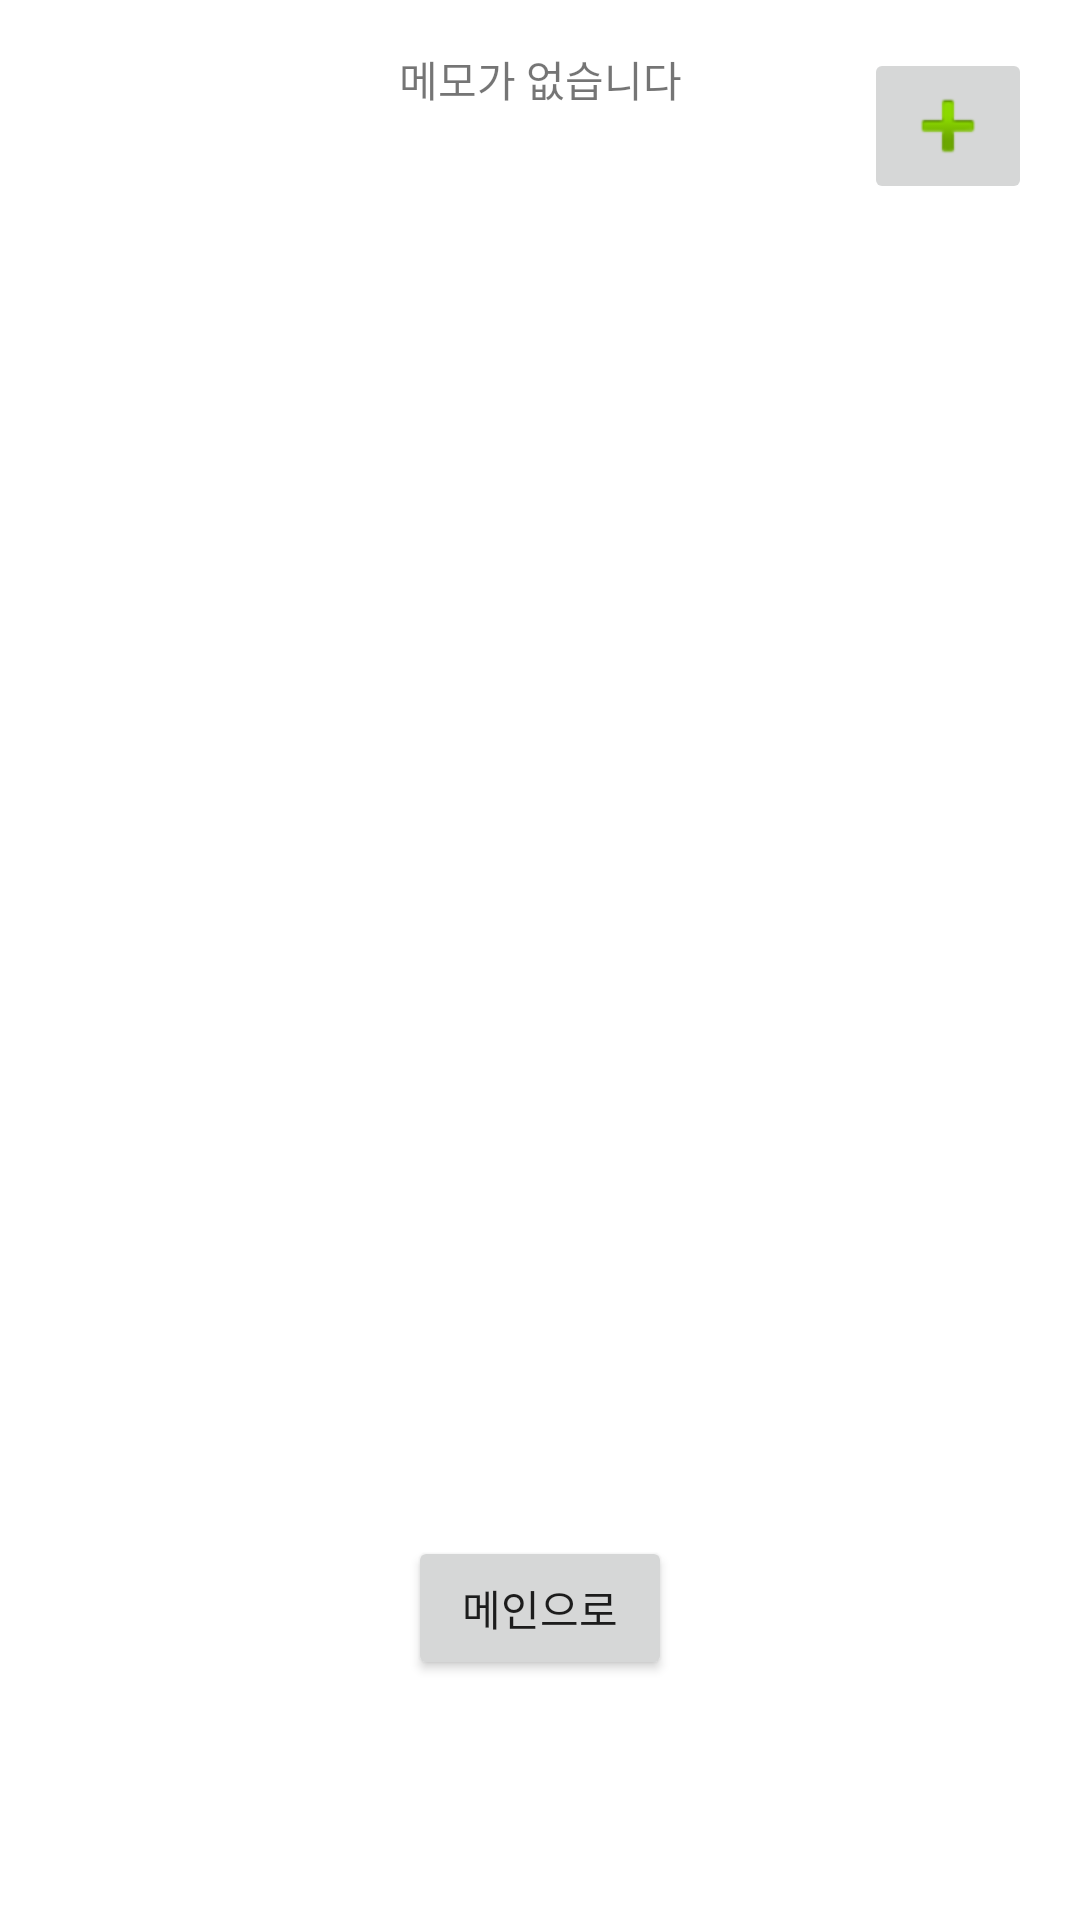

Where icons sit on this 1080*1920 app screen, as [left=x1, top=y1, right=x2, bottom=y2]:
추가: [left=876, top=66, right=1020, bottom=186]
